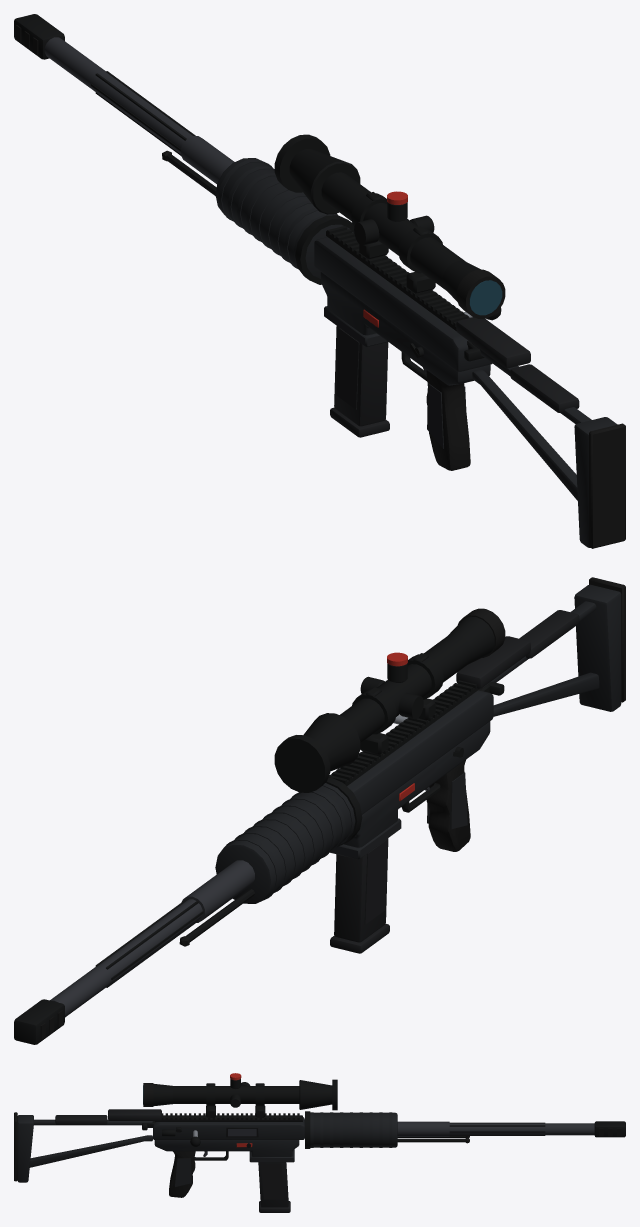
File: gun_19.glb
The picture shows the model from 3 angles, top to bottom: view 1: azimuth 30°, elevation 25°; view 2: azimuth 150°, elevation 25°; view 3: azimuth 270°, elevation 25°; orthographic projection. The views are drawn at different scales.
Visible parts, largest first — view 1: gun_19; view 2: gun_19; view 3: gun_19.
Part boxes in pixels (box(x1,y1,x2,y2)): gun_19: box(14, 14, 625, 548); gun_19: box(14, 577, 625, 1044); gun_19: box(14, 1073, 625, 1212).
Bounding box in the file's own units: 0.1283 × 0.3295 × 1.37.
